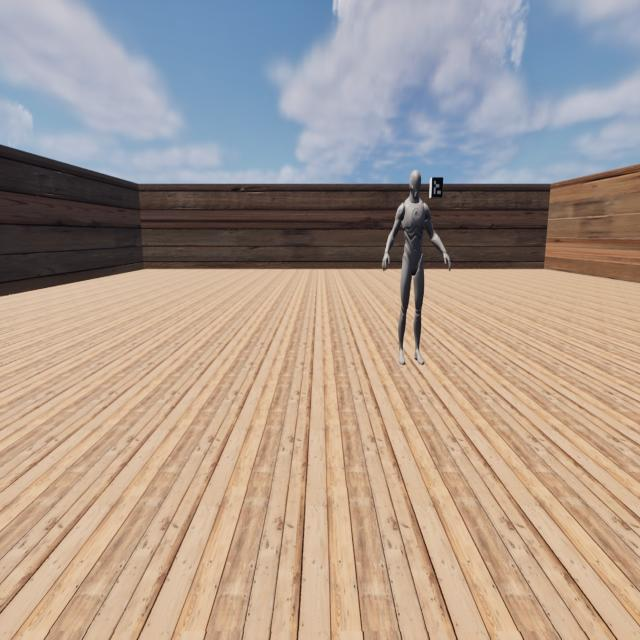aruco: (432, 177, 443, 198)
hip: (402, 253, 423, 263)
